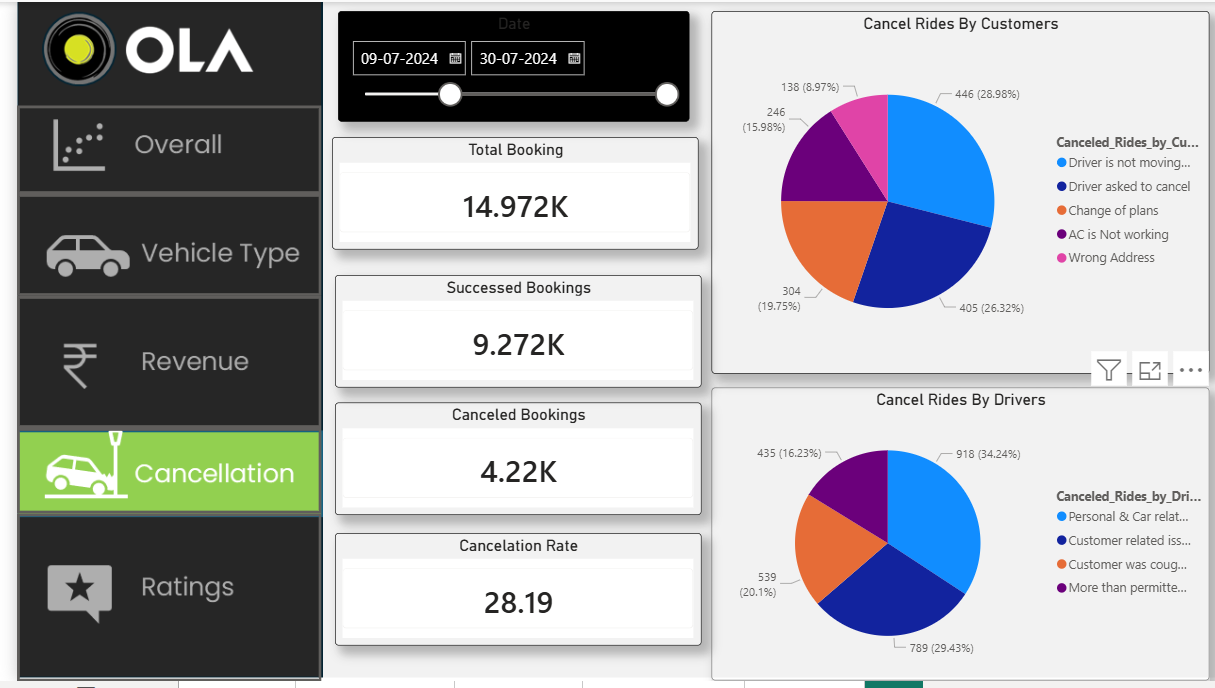

This screenshot's page, from the dashboard's own definition file:
{"tool":"powerbi","page":{"name":"Cancellation","canvas":[1280,720],"ordinal":3},"visuals":[{"type":"actionButton","box":[0,109.8,322.9,93.8],"z":0},{"type":"actionButton","box":[0,203.6,322.9,108.2],"z":1000},{"type":"actionButton","box":[0,311.8,322.9,140],"z":2000},{"type":"actionButton","box":[0,451.7,322.9,90.7],"z":3000},{"type":"actionButton","box":[0,541.9,322.9,178.1],"z":4000},{"type":"pieChart","title":"Cancel Rides By Customers","fields":{"Y":["CountNonNull(July.Booking_Status)"],"Category":["July.Canceled_Rides_by_Customer"]},"box":[736.9,10,527.8,384.4],"z":5000},{"type":"pieChart","title":"Cancel Rides By Drivers","fields":{"Category":["July.Canceled_Rides_by_Driver"],"Y":["CountNonNull(July.Canceled_Rides_by_Driver)"]},"box":[736.9,408.3,527.8,310.7],"z":6000},{"type":"slicer","title":"Date","fields":{"Values":["July.Date"]},"box":[340.6,10,372.5,117.5],"z":7000},{"type":"cardVisual","title":"Total Booking","fields":{"Data":["CountNonNull(July.Booking_ID)"]},"box":[334.6,143.4,388.4,119.5],"z":8000},{"type":"cardVisual","title":"Successed Bookings","fields":{"Data":["CountNonNull(July.Booking_ID)"]},"box":[336.6,288.8,388.4,119.5],"z":9000},{"type":"cardVisual","title":"Canceled Bookings","fields":{"Data":["CountNonNull(July.Booking_ID)"]},"box":[336.6,424.2,388.4,119.5],"z":10000},{"type":"cardVisual","title":"Cancelation Rate","fields":{"Data":["July.CanceledPercentage"]},"box":[336.6,563.7,388.4,119.5],"z":11000}]}

Visuals, with their boxes in screenshot pixels (x1, y1, x2, y2), scaled from the page's 1280x720 canvas onto the 1215x688 screenshot:
actionButton: 0 105 307 195
actionButton: 0 195 307 298
actionButton: 0 298 307 432
actionButton: 0 432 307 518
actionButton: 0 518 307 687
"Cancel Rides By Customers" pieChart: 699 10 1200 377
"Cancel Rides By Drivers" pieChart: 699 390 1200 687
"Date" slicer: 323 10 677 122
"Total Booking" cardVisual: 318 137 686 251
"Successed Bookings" cardVisual: 320 276 688 390
"Canceled Bookings" cardVisual: 320 405 688 520
"Cancelation Rate" cardVisual: 320 539 688 653
